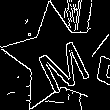M_NW: (26, 25, 89, 91)
